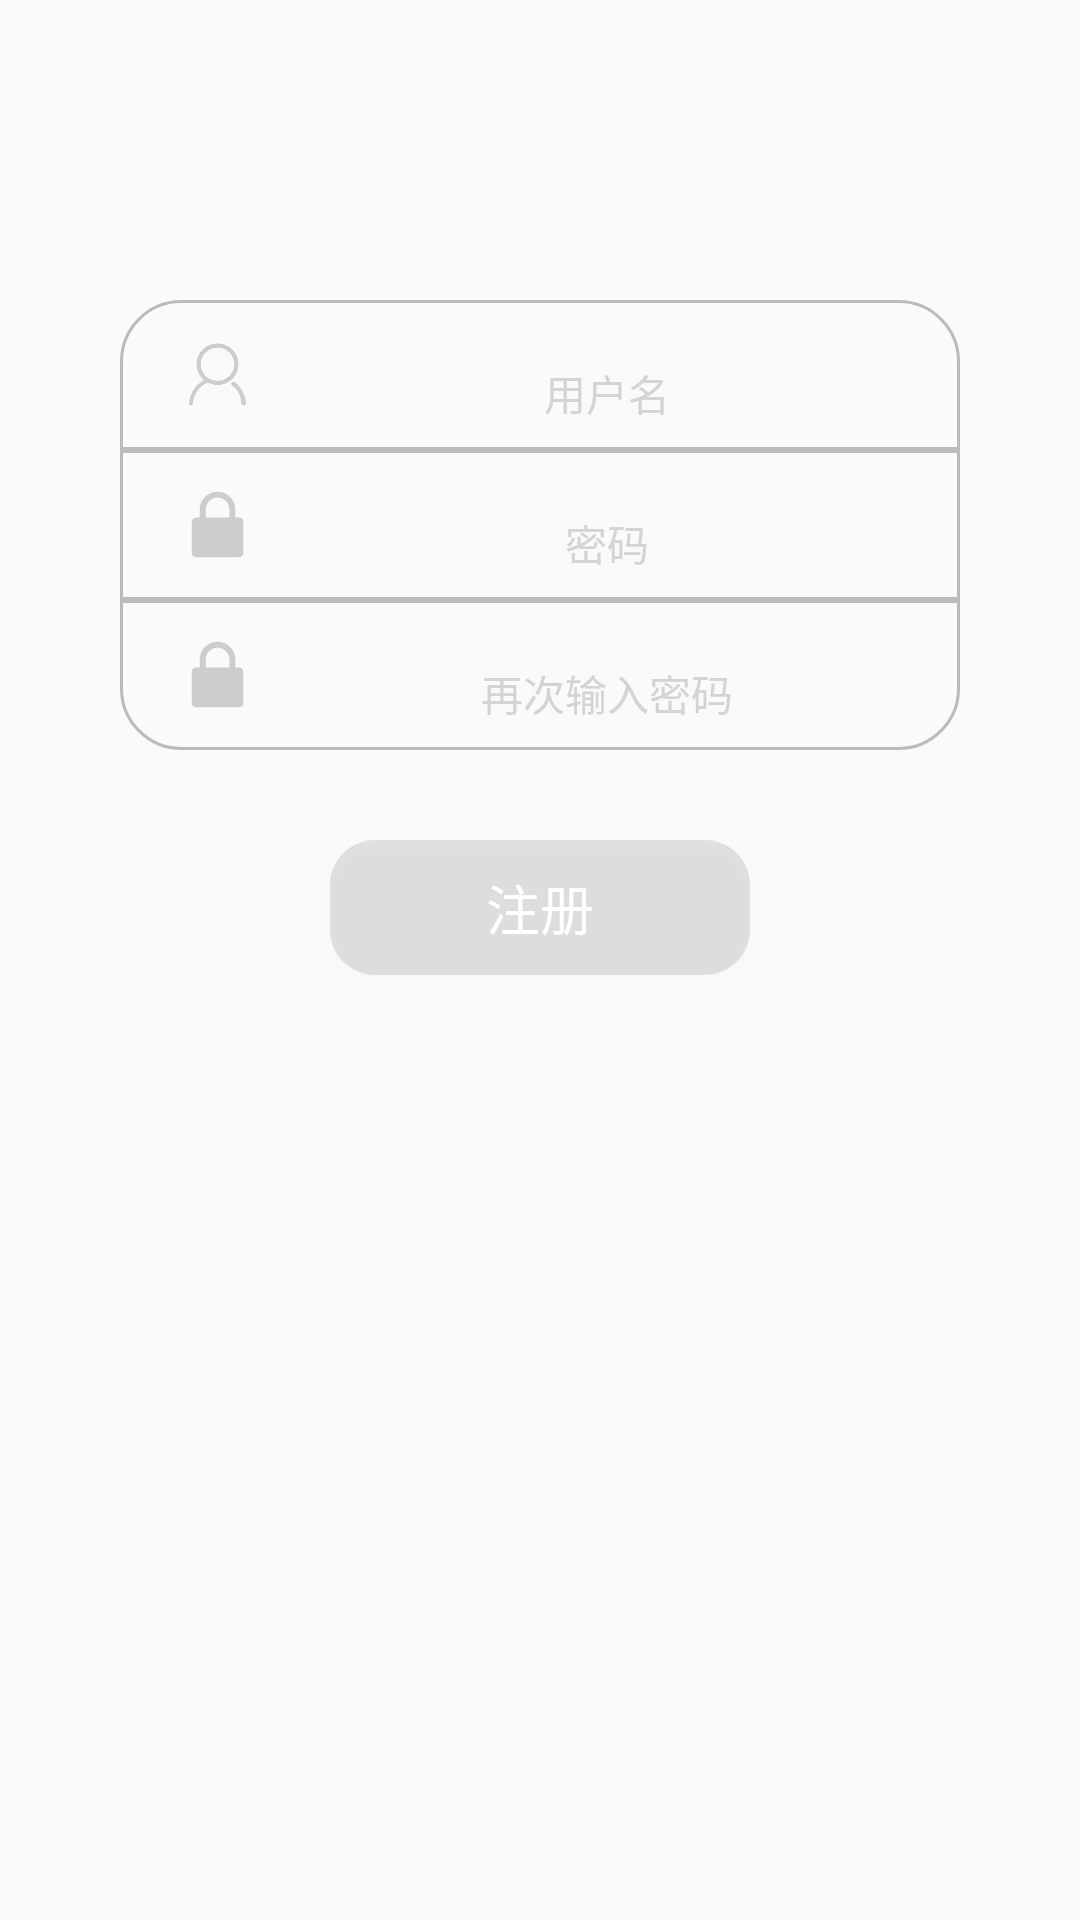

Screen size 1080 × 1920. Icon name, then its box in pixels as [x1=x1, y1=y1, x2=x2, y2=y2]:
password: [x1=192, y1=492, x2=243, y2=557], [x1=192, y1=642, x2=243, y2=707]
user: [x1=189, y1=343, x2=246, y2=405]
